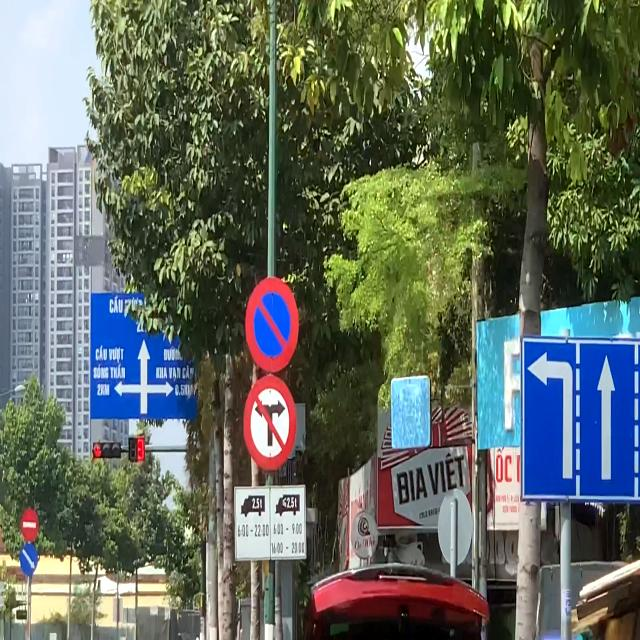P.102: (21, 508, 39, 543)
P.131a: (243, 267, 302, 376)
P.137: (240, 376, 297, 478)
R.302a: (19, 541, 38, 579)
